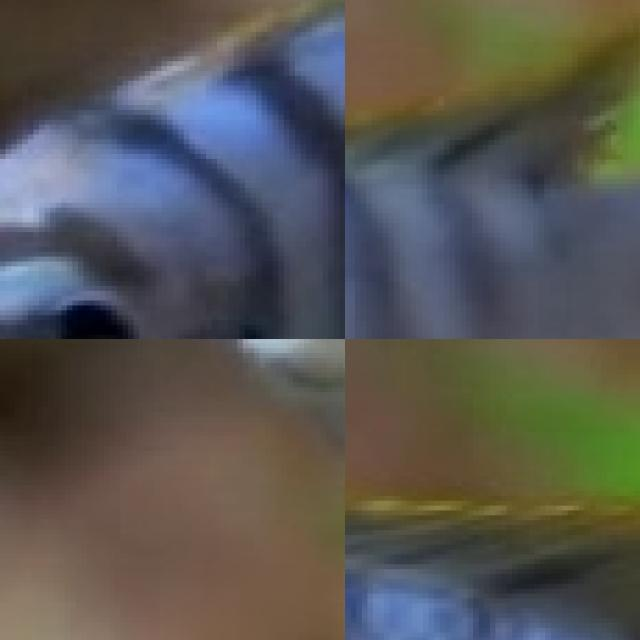fish: (0, 0, 345, 339), (345, 369, 640, 640), (103, 339, 345, 539)
